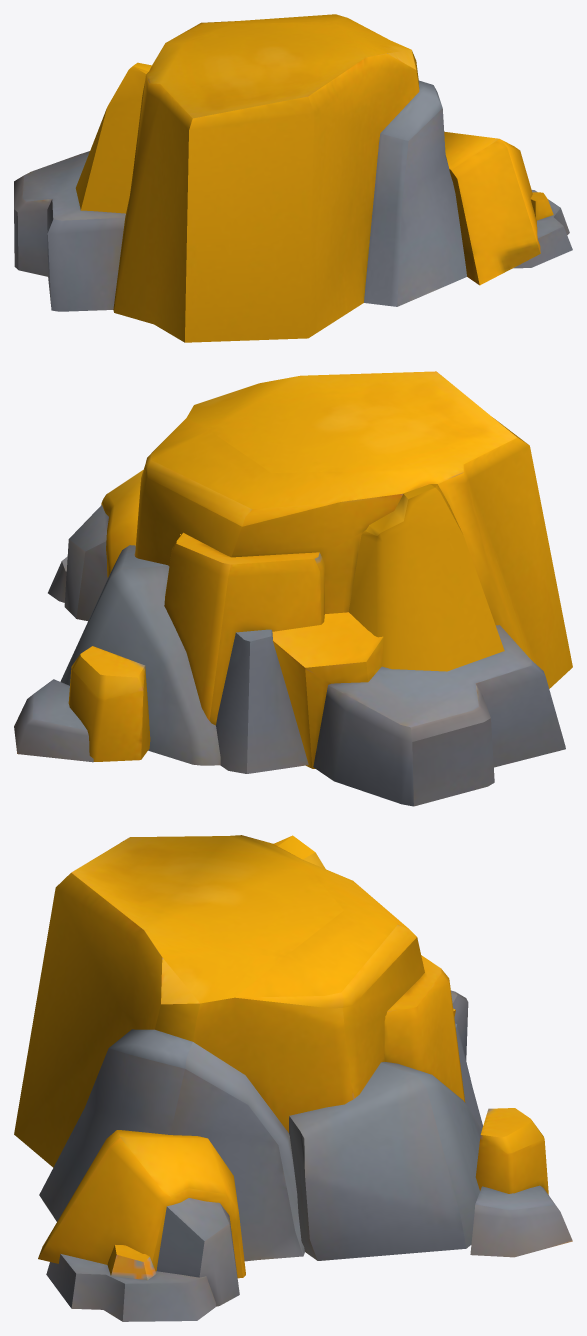
The model's file is jinkuang_002.fbx.
The picture shows the model from 3 angles, top to bottom: view 1: azimuth 30°, elevation 25°; view 2: azimuth 150°, elevation 25°; view 3: azimuth 270°, elevation 25°; orthographic projection. The views are drawn at different scales.
Parts seen in each view (by area): view 1: jinkuang_002; view 2: jinkuang_002; view 3: jinkuang_002.
Part boxes in pixels (box(x1,y1,x2,y2)): jinkuang_002: box(14, 14, 572, 342); jinkuang_002: box(14, 371, 572, 806); jinkuang_002: box(14, 835, 572, 1321).
Size of the model in its own units: 620 by 286 by 513.
